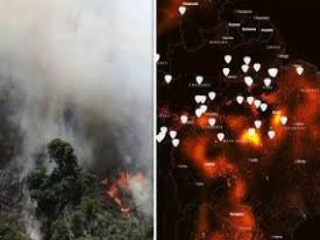fire: (102, 163, 145, 212)
smoke: (6, 29, 99, 166)
